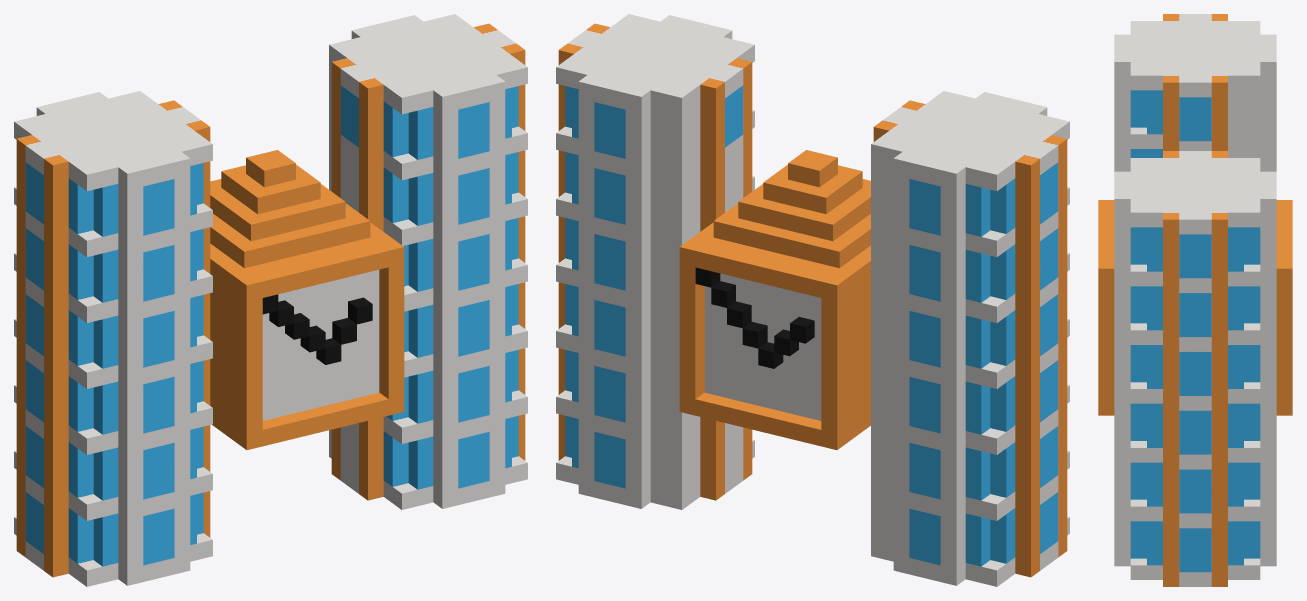
File: TwentySevenModel.fbx
The picture shows the model from 3 angles, left to right: view 1: azimuth 30°, elevation 25°; view 2: azimuth 150°, elevation 25°; view 3: azimuth 270°, elevation 25°; orthographic projection. The views are drawn at different scales.
Parts seen in each view (by area): view 1: Cylinder; view 2: Cylinder; view 3: Cylinder.
Boxes of the visible parts, left/top/right/bottom form: Cylinder: left=14, top=14, right=527, bottom=586; Cylinder: left=556, top=14, right=1069, bottom=586; Cylinder: left=1098, top=14, right=1292, bottom=586.
Bounding box in the file's own units: 30 × 25 × 12.
Materials: 1 (1 with a texture image).
